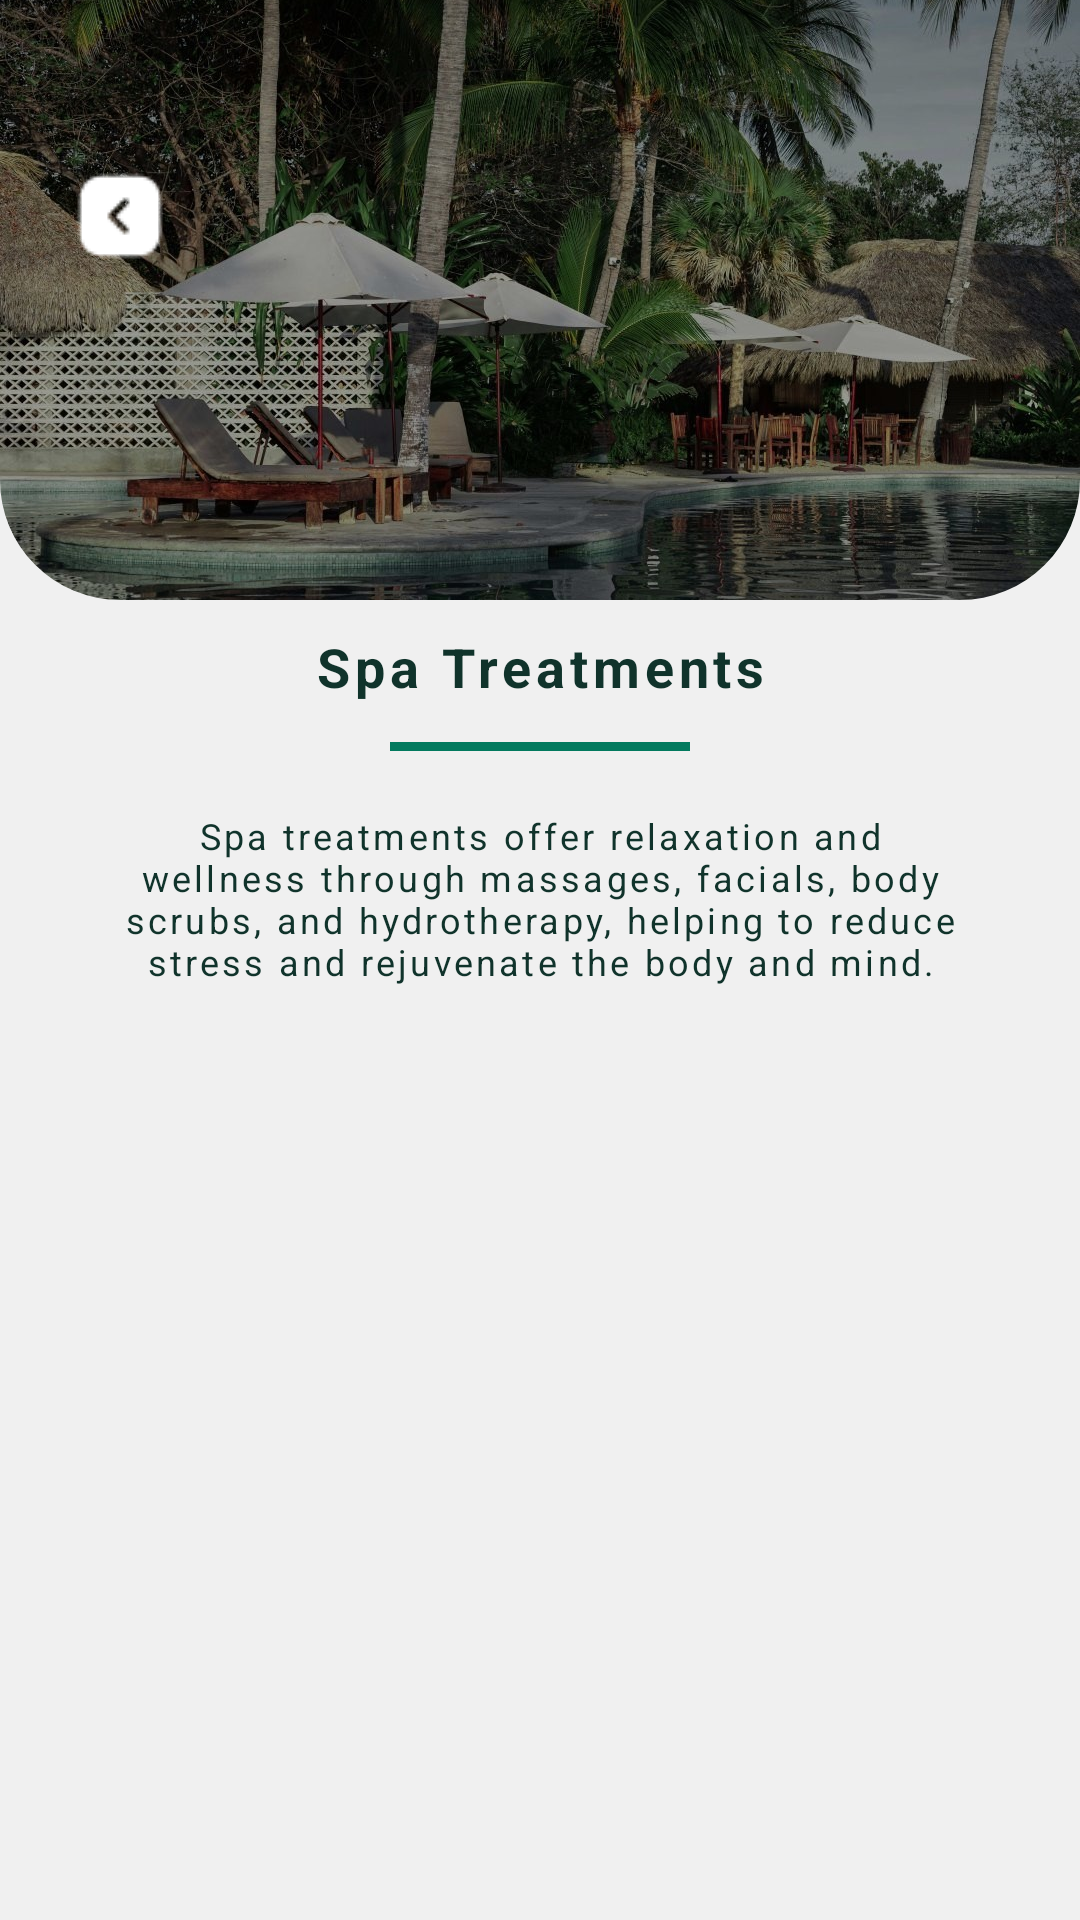

Screen size 1080 × 1920. Icon name, then its center in pixels as [x,y]:
back: [120,216]
